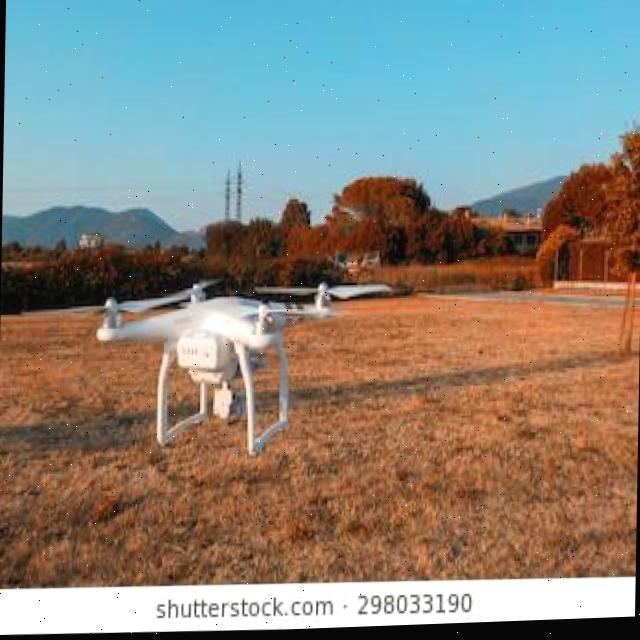drone: (54, 217, 410, 484)
